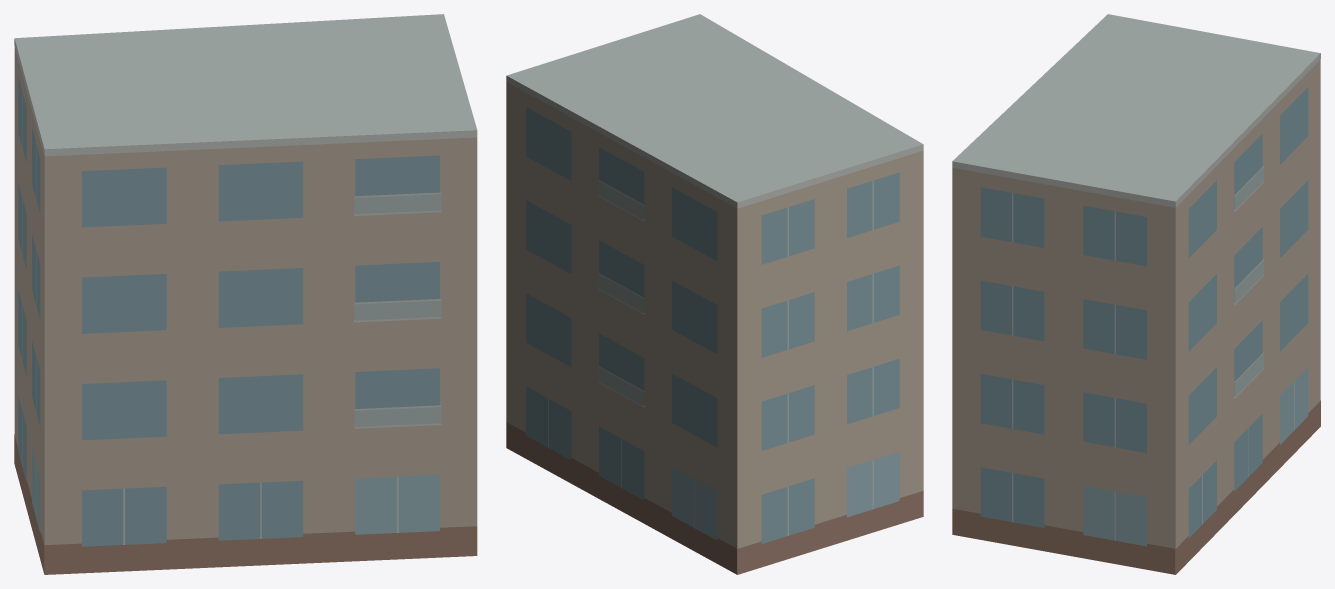
The model's file is survey-upis-32503645.glb.
The picture shows the model from 3 angles, left to right: view 1: azimuth 30°, elevation 25°; view 2: azimuth 150°, elevation 25°; view 3: azimuth 270°, elevation 25°; orthographic projection. The views are drawn at different scales.
Parts seen in each view (by area): view 1: survey-upis-32503645.tmp; view 2: survey-upis-32503645.tmp; view 3: survey-upis-32503645.tmp.
Part boxes in pixels (bbox=[...]): survey-upis-32503645.tmp: bbox=[14, 14, 477, 574]; survey-upis-32503645.tmp: bbox=[506, 14, 923, 574]; survey-upis-32503645.tmp: bbox=[952, 14, 1320, 574].
Bounding box in the file's own units: 15.63 × 14.5 × 12.98.
